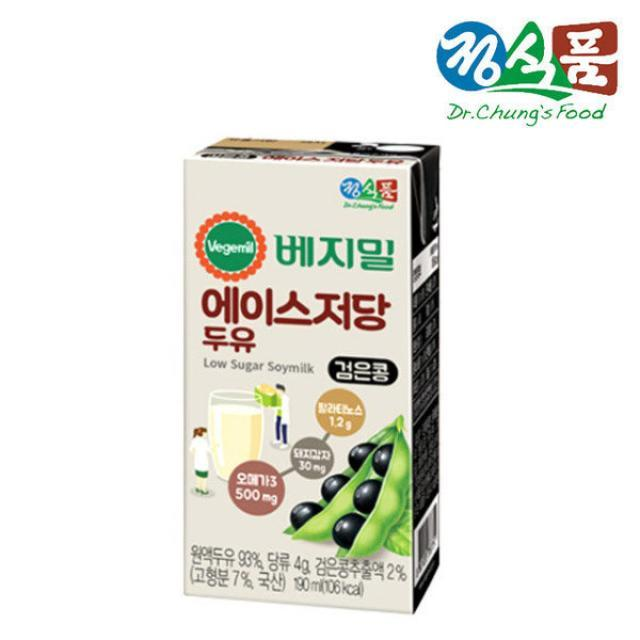Tetra: (168, 132, 454, 640)
